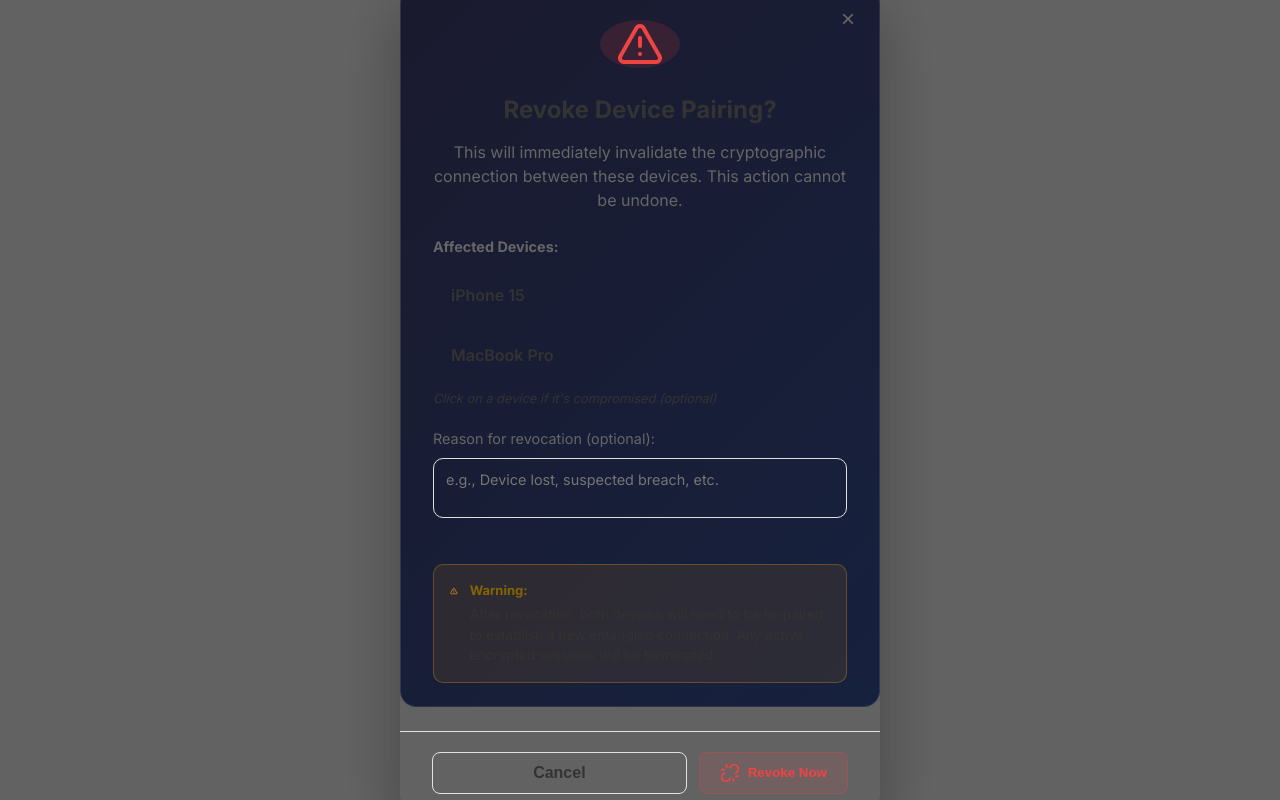
it: InstantRevokeModal › allows selecting compromised device
What coordinates should you click on to do the following:
click the text "iPhone 15"
I would click on:
 (488, 295)
Its box is [451,285,525,305].
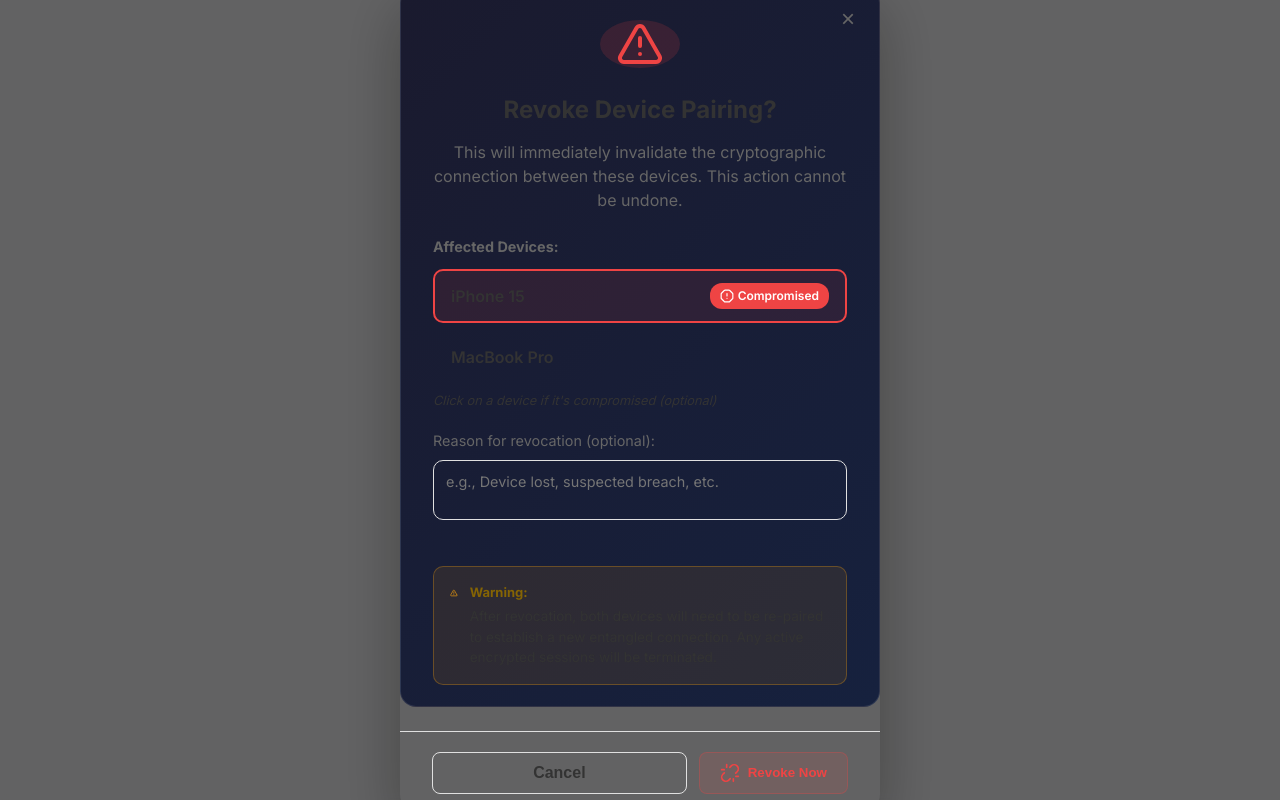
Check: the element with class "compromised-badge" is shown, box [710,283,829,309]
